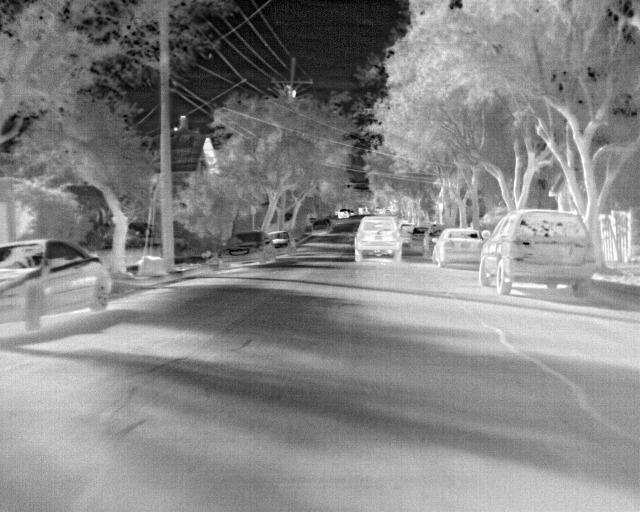car: (0, 239, 114, 330), (478, 207, 593, 294), (353, 214, 401, 258), (433, 226, 482, 269), (219, 230, 273, 267), (270, 230, 297, 261), (421, 227, 442, 258), (411, 225, 426, 247), (312, 218, 331, 235), (398, 220, 413, 236), (335, 207, 351, 219)
